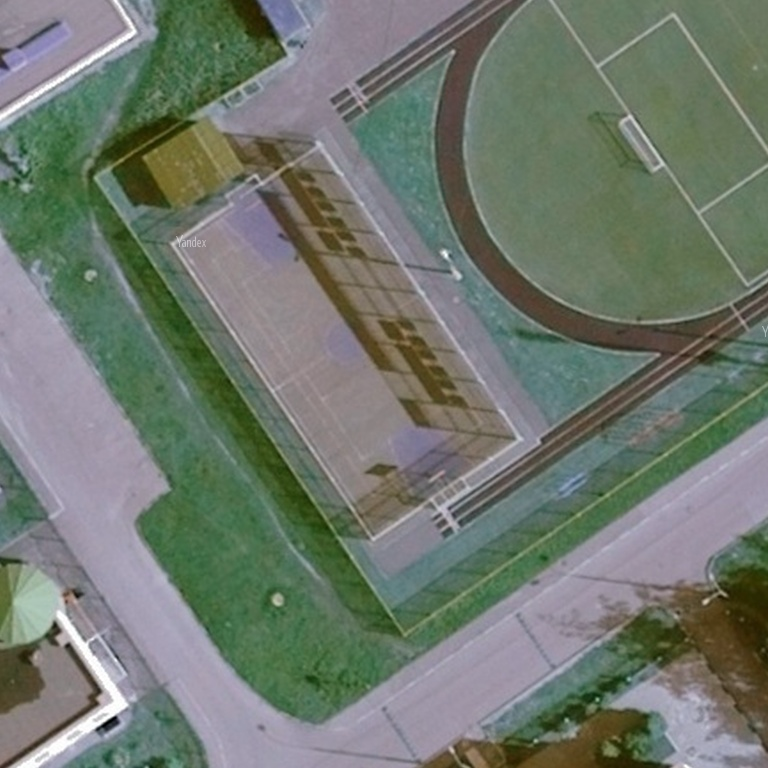basket_court: (155, 126, 542, 554)
